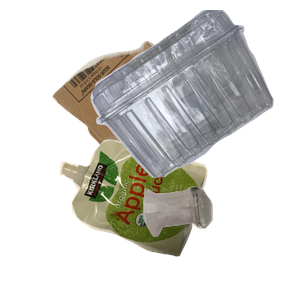cardboard: (50, 38, 233, 184)
glass: (141, 184, 300, 300)
plastic: (88, 10, 300, 180)
trash: (57, 137, 257, 300)
